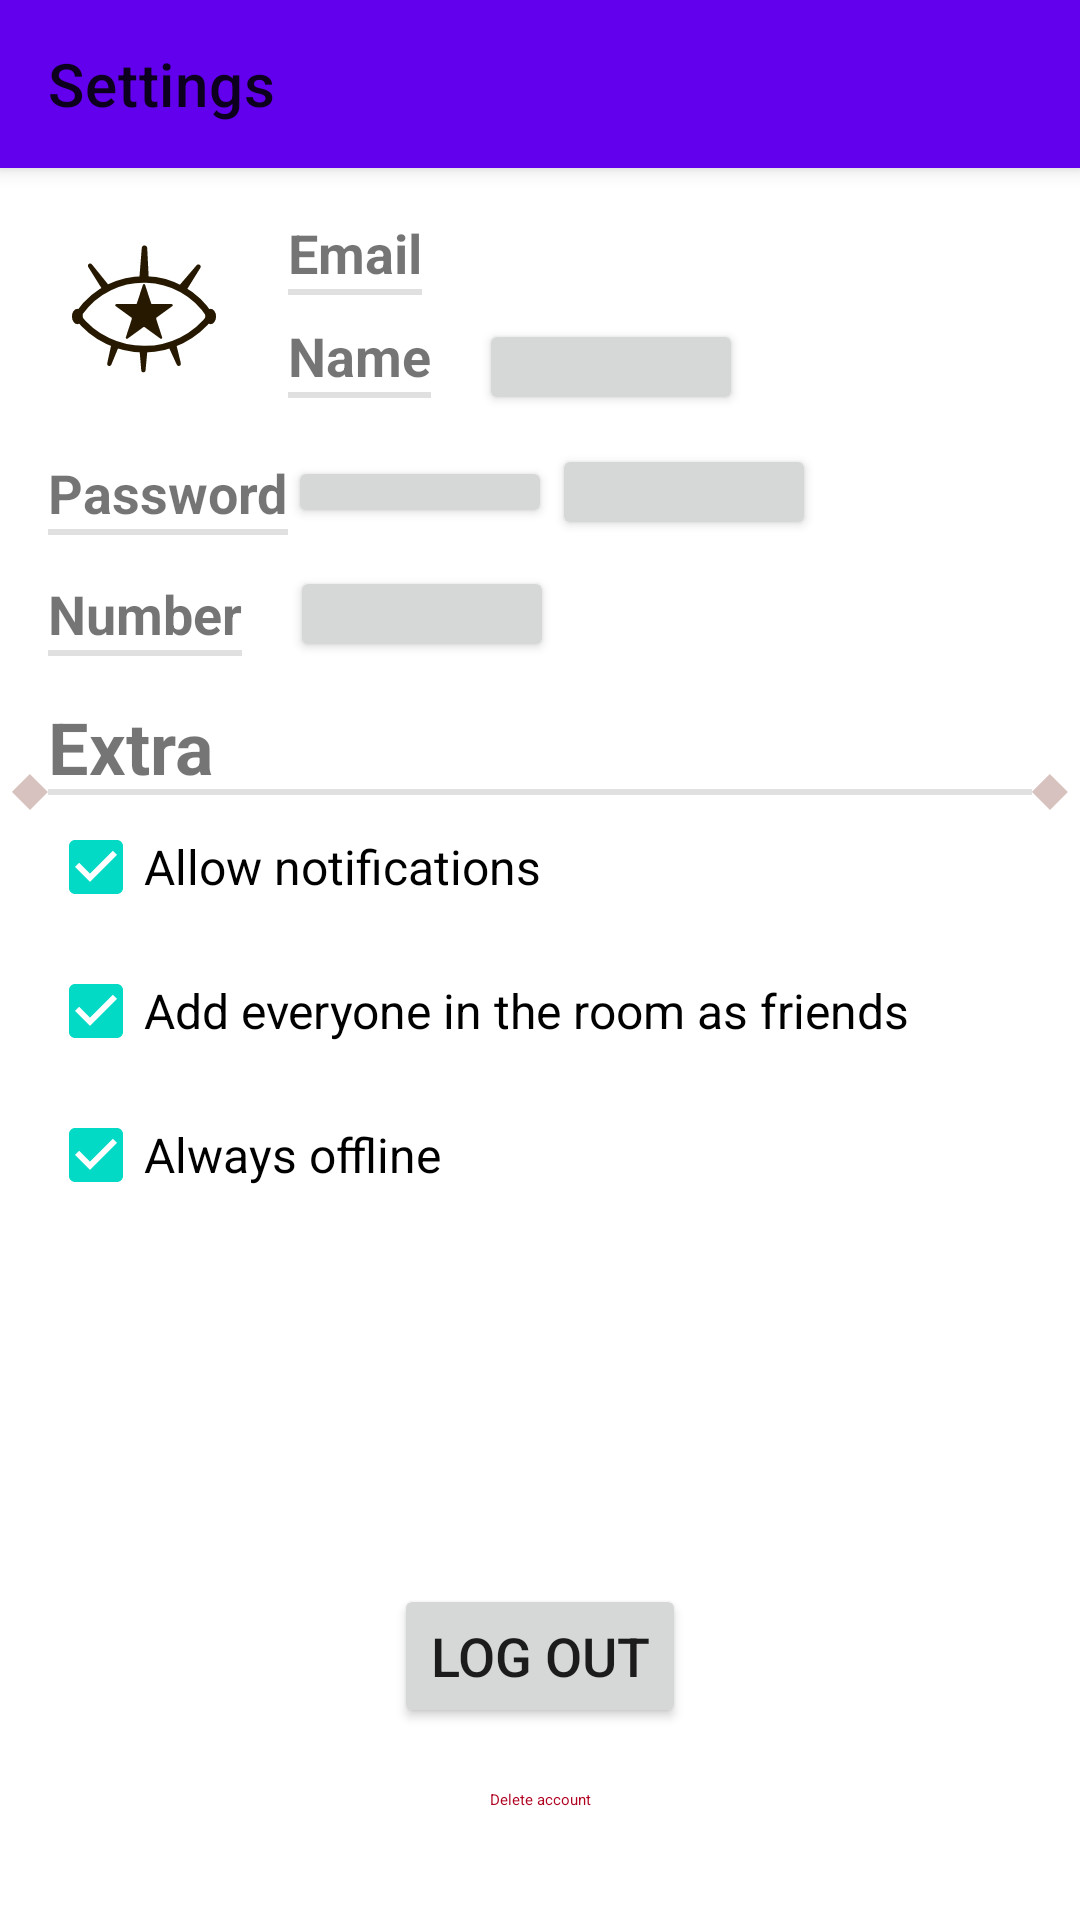

Icons on this 1080px×1920px Android screen, each with the point to tap as (x,y):
diamond: (29,792), (1049,792)
open eye: (144,309)
